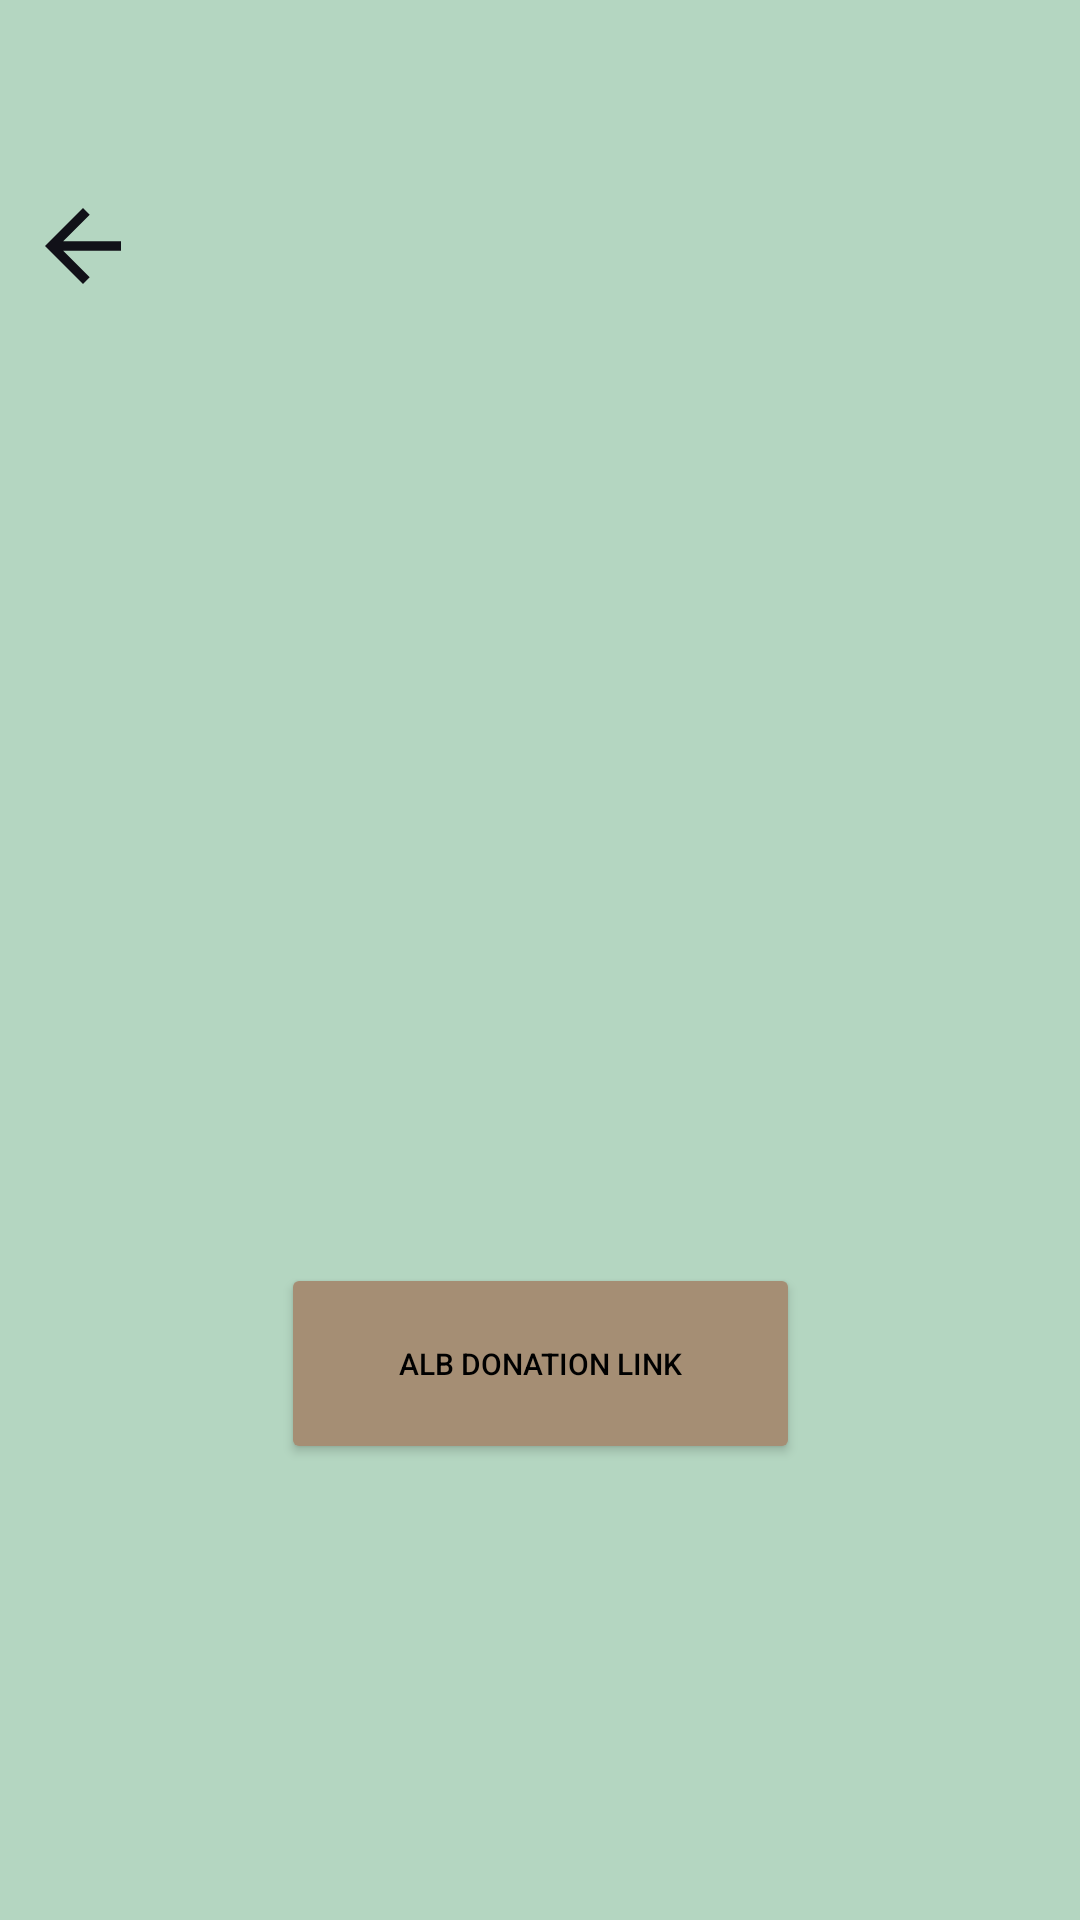

Named icons in this screenshot (1080w x 1920h) and their centers, point (x, y):
arrow back: point (83, 246)
